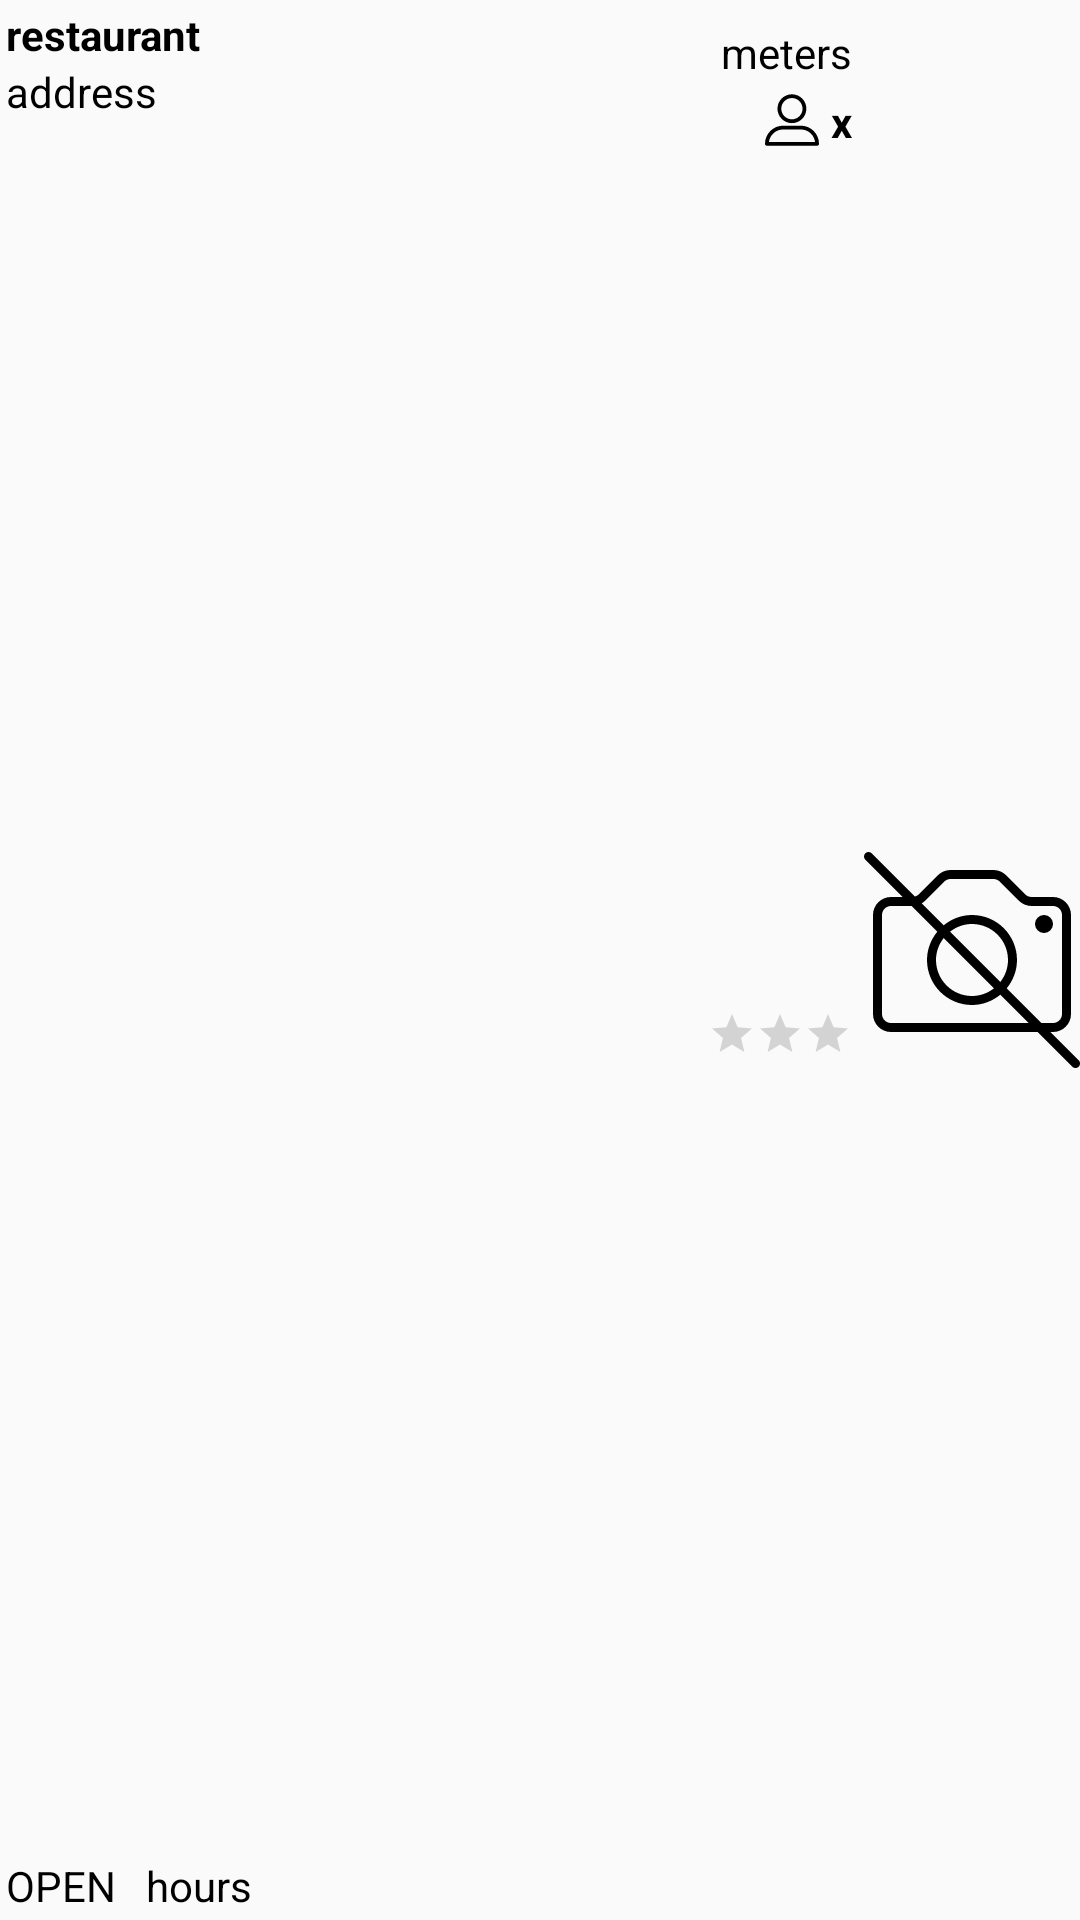

Icon click points for this 1080×1920 phone screenshot, format (x,y):
no camera: (972,960)
profile: (792,120)
